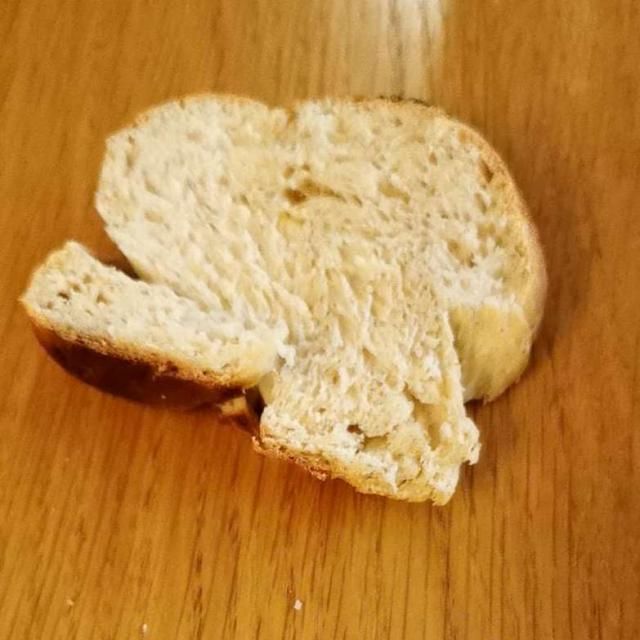braided-white-loaf: (17, 85, 545, 501), (31, 93, 542, 498)
